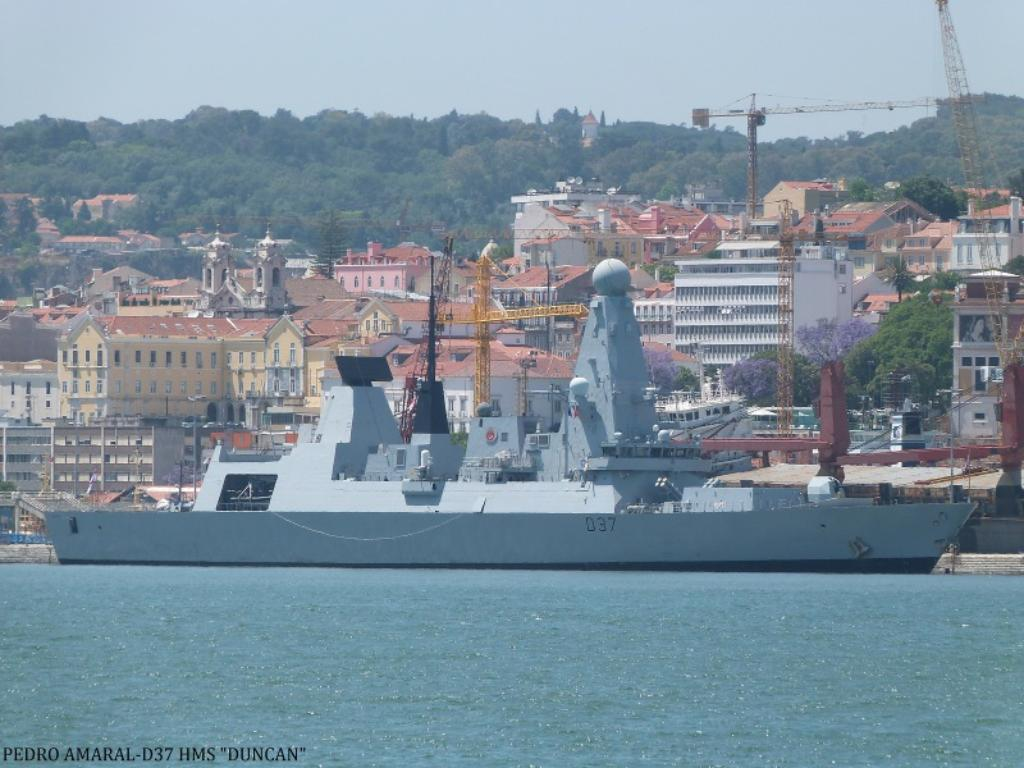Warship: (40, 258, 984, 572)
